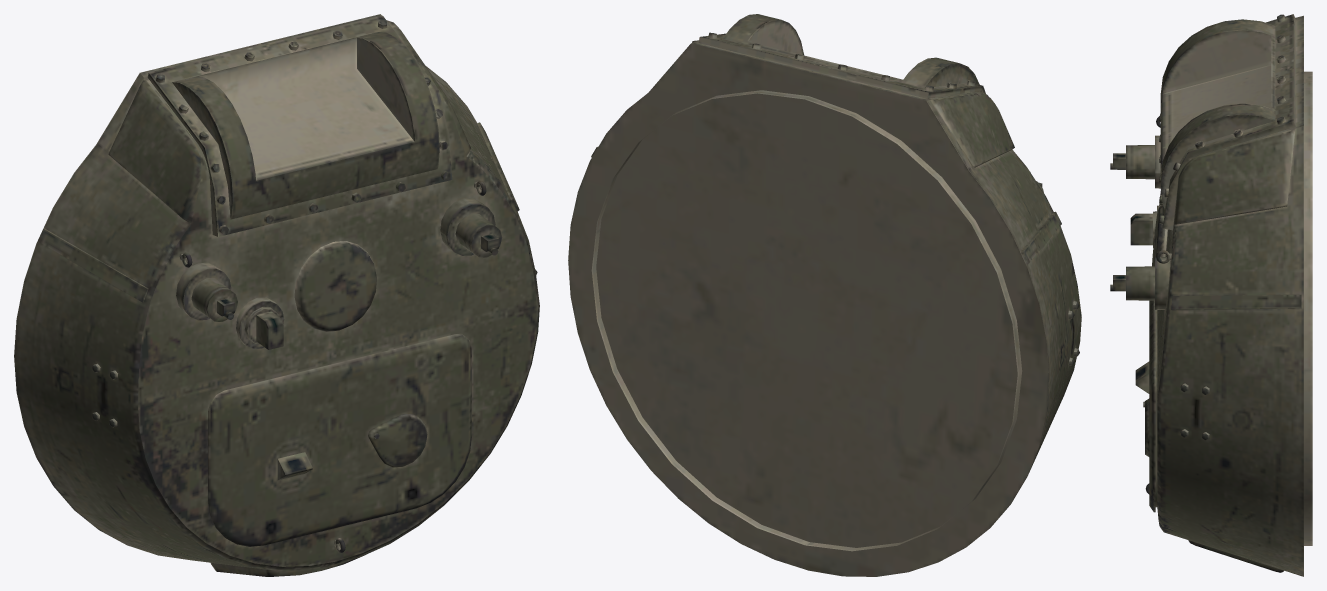
File: Turret_01.glb
The picture shows the model from 3 angles, left to right: view 1: azimuth 30°, elevation 25°; view 2: azimuth 150°, elevation 25°; view 3: azimuth 270°, elevation 25°; orthographic projection. The views are drawn at different scales.
Parts seen in each view (by area): view 1: set_0_group_0; view 2: set_0_group_0; view 3: set_0_group_0.
Boxes of the visible parts, x1,y1,x2,y2 form: set_0_group_0: (14, 14, 539, 576); set_0_group_0: (568, 14, 1081, 576); set_0_group_0: (1110, 14, 1312, 576).
Bounding box in the file's own units: 1.73 × 1.74 × 0.6536.
1 material, 1 textured.
